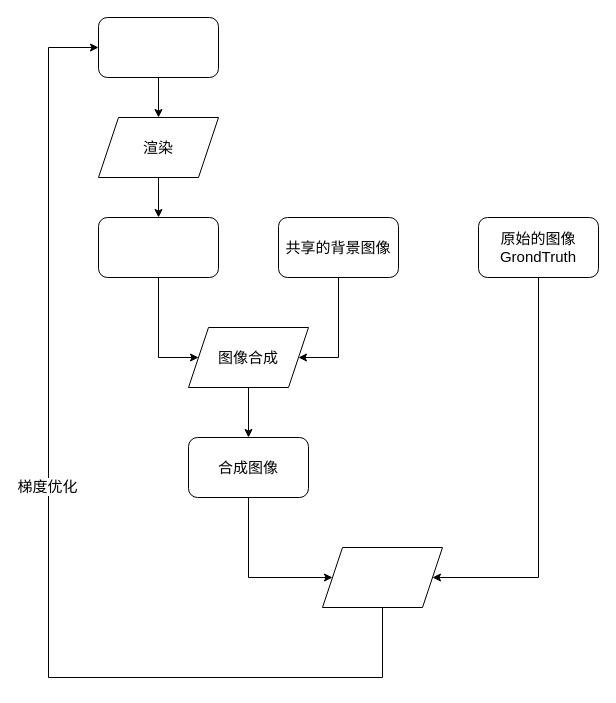
This 616x703 diagram has some shape labels left out. The centre of each missing label's shape, as x and y in pixels:
"人物图像" goes at (x=158, y=247).
"人物的高斯点" goes at (x=158, y=47).
"计算loss" goes at (x=382, y=577).
